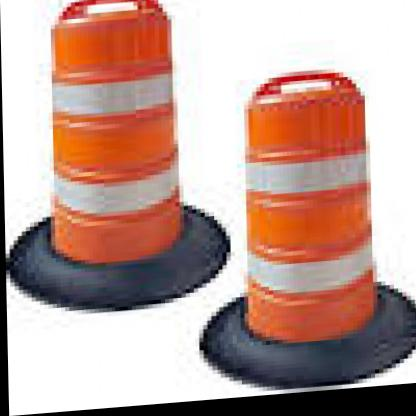obstacle: (218, 79, 393, 360), (34, 8, 196, 272)
